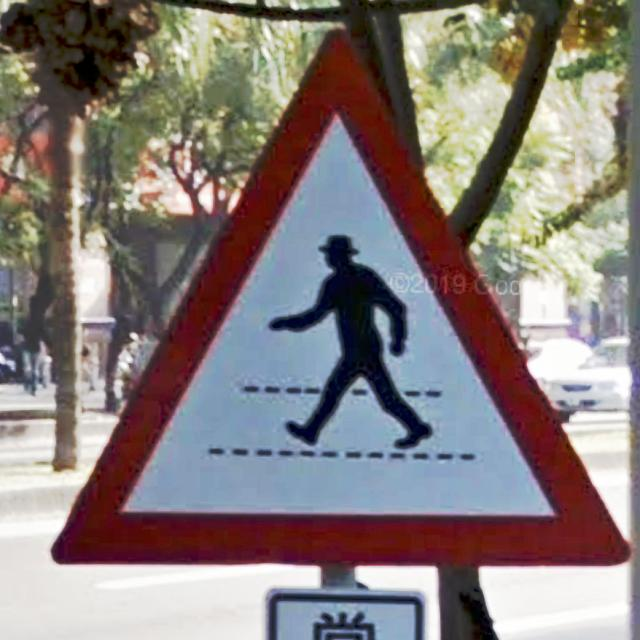pedestriancross: (49, 31, 632, 570)
